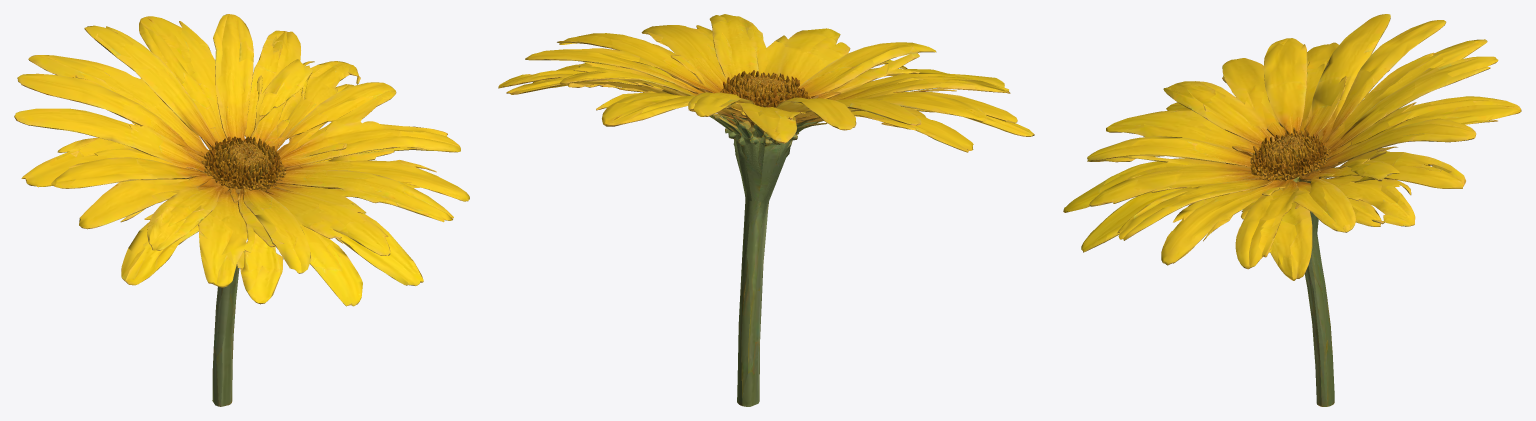
File: rudbeckia-03.glb
The picture shows the model from 3 angles, left to right: view 1: azimuth 30°, elevation 25°; view 2: azimuth 150°, elevation 25°; view 3: azimuth 270°, elevation 25°; orthographic projection. The views are drawn at different scales.
Visible parts, largest first — view 1: mesh_node; view 2: mesh_node; view 3: mesh_node.
Boxes of the visible parts, <box> form: mesh_node: <box>14,14,469,406</box>; mesh_node: <box>498,14,1034,406</box>; mesh_node: <box>1063,14,1521,406</box>.
Size of the model in its own units: 1.88 by 1.47 by 1.9.
1 material, 1 textured.
